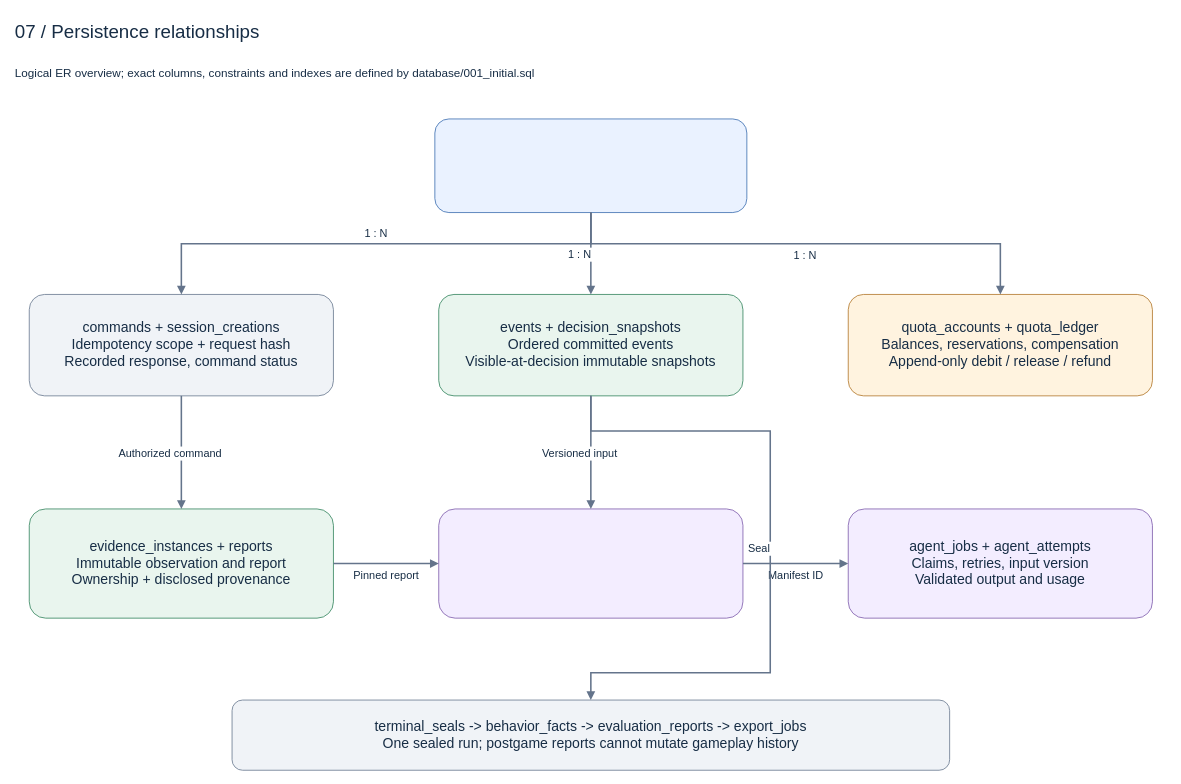
Some shapes in this 1181 by 784 pixel diagram are drawn without their labels. The centre of each missing label's shape, as x and y in pixels:
"sessions PK session_id run_epoch / state_version / policy hash" goes at point 590,165.
"uploads + input_manifests Pinned report revision Model-allowed context snapshots" goes at point 590,563.
